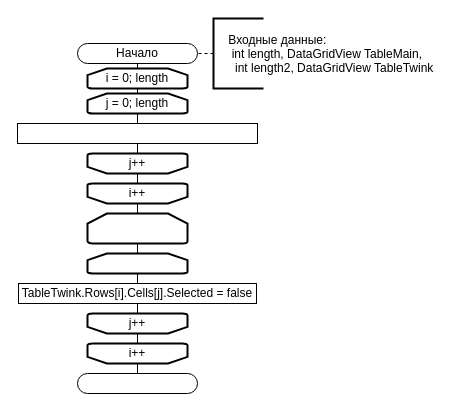
This 452x411 diagram has some shape labels left out. The shapes that lost their labels are listed below. From the top down, each one's centre as x and y in pixels, then its label:
At [137,133]: "TableMain.Rows[i].Cells[j].Selected = false".
At [137,228]: "i = 0; 2".
At [137,263]: "j = 0; length2".
At [137,383]: "Конец".
